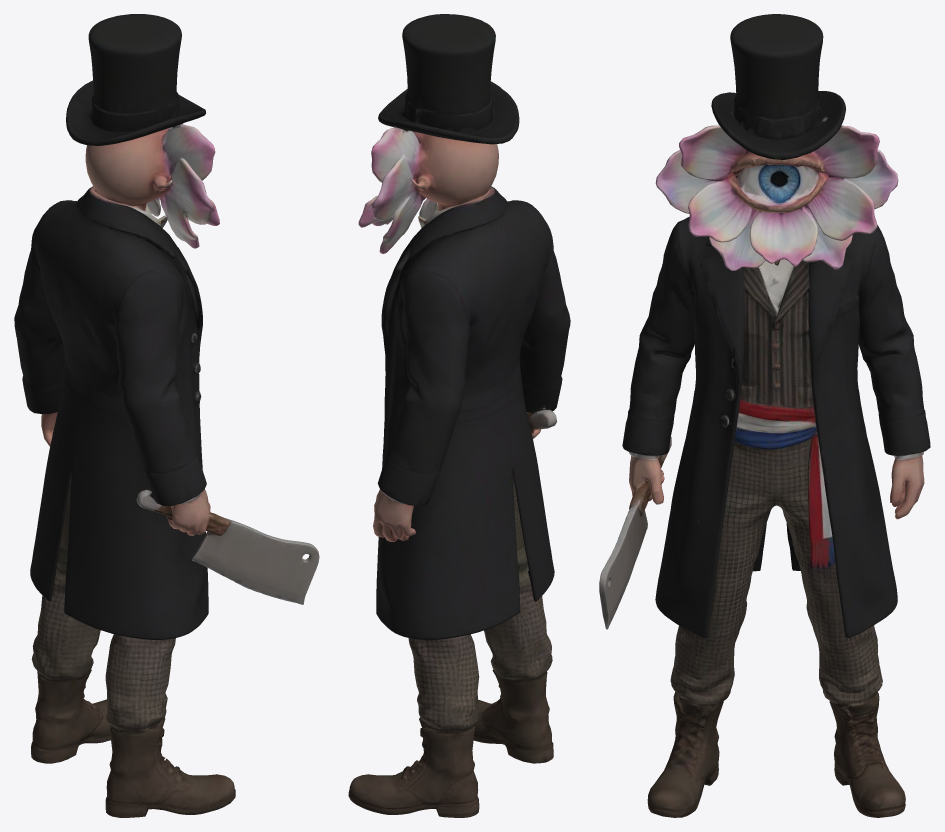
File: butcher.glb
3 views of the same model, side by side, from view 1: azimuth 30°, elevation 25°; view 2: azimuth 150°, elevation 25°; view 3: azimuth 270°, elevation 25° (orthographic). The views are drawn at different scales.
Parts seen in each view (by area): view 1: tripo_node_0c0fff98-b998-4e1a-8663-867fc91095e8; view 2: tripo_node_0c0fff98-b998-4e1a-8663-867fc91095e8; view 3: tripo_node_0c0fff98-b998-4e1a-8663-867fc91095e8.
Boxes of the visible parts, left/top/right/bottom form: tripo_node_0c0fff98-b998-4e1a-8663-867fc91095e8: left=14, top=14, right=319, bottom=817; tripo_node_0c0fff98-b998-4e1a-8663-867fc91095e8: left=348, top=14, right=570, bottom=817; tripo_node_0c0fff98-b998-4e1a-8663-867fc91095e8: left=599, top=14, right=930, bottom=817.
Bounding box in the file's own units: 0.2537 × 1 × 0.3903.
1 material, 1 textured.
